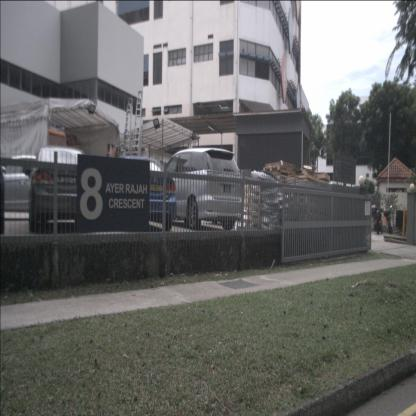vehicle-car: (150, 149, 242, 233), (30, 146, 88, 232), (114, 156, 176, 230), (0, 155, 63, 213)
vehicle-motorcycle: (372, 204, 383, 234), (384, 204, 392, 234)
